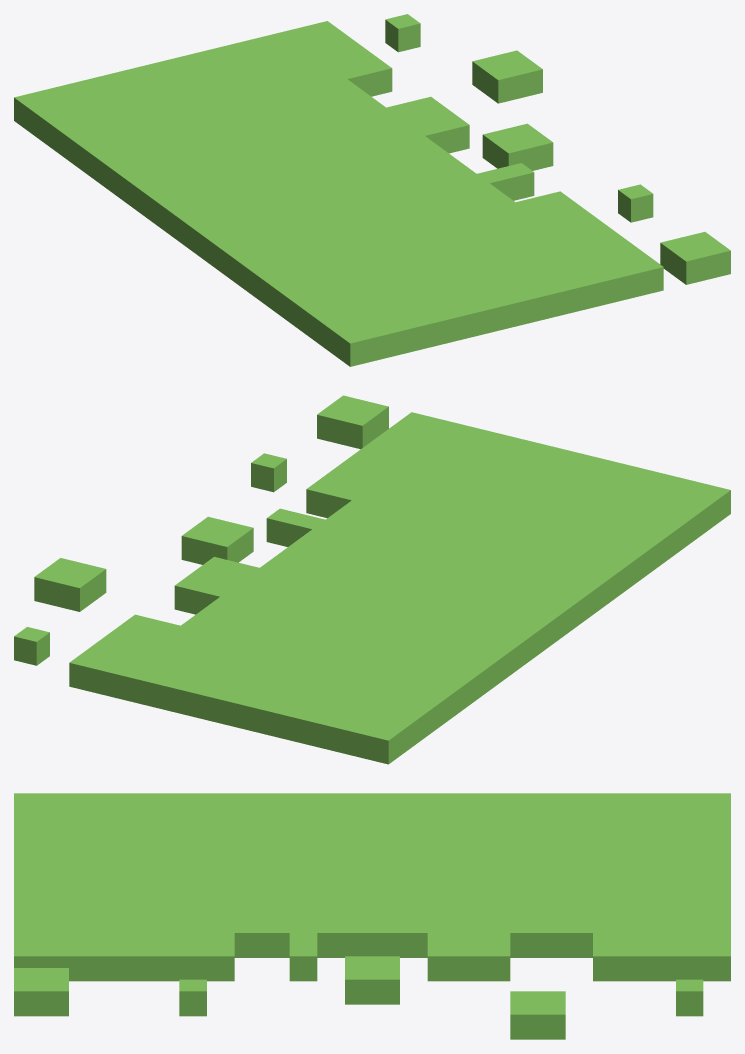
File: GGJ Grass 3.obj
3 views of the same model, one above another, from view 1: azimuth 30°, elevation 25°; view 2: azimuth 150°, elevation 25°; view 3: azimuth 270°, elevation 25° (orthographic). The views are drawn at different scales.
Bounding box in the file's own units: 1.9 × 0.1 × 2.6.
1 material, 1 textured.
